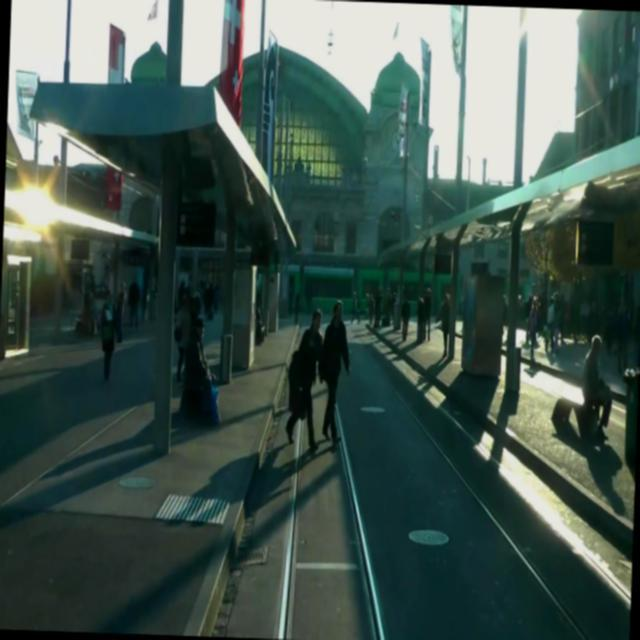danger: (274, 299, 361, 452)
rail: (251, 318, 412, 637)
